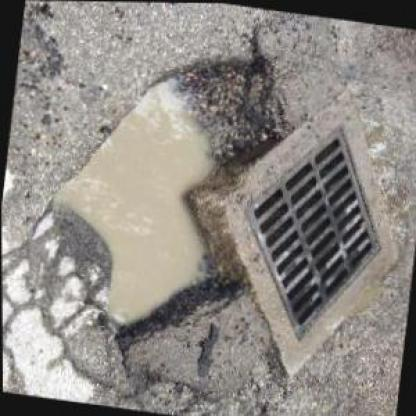pothole: (32, 26, 301, 369)
